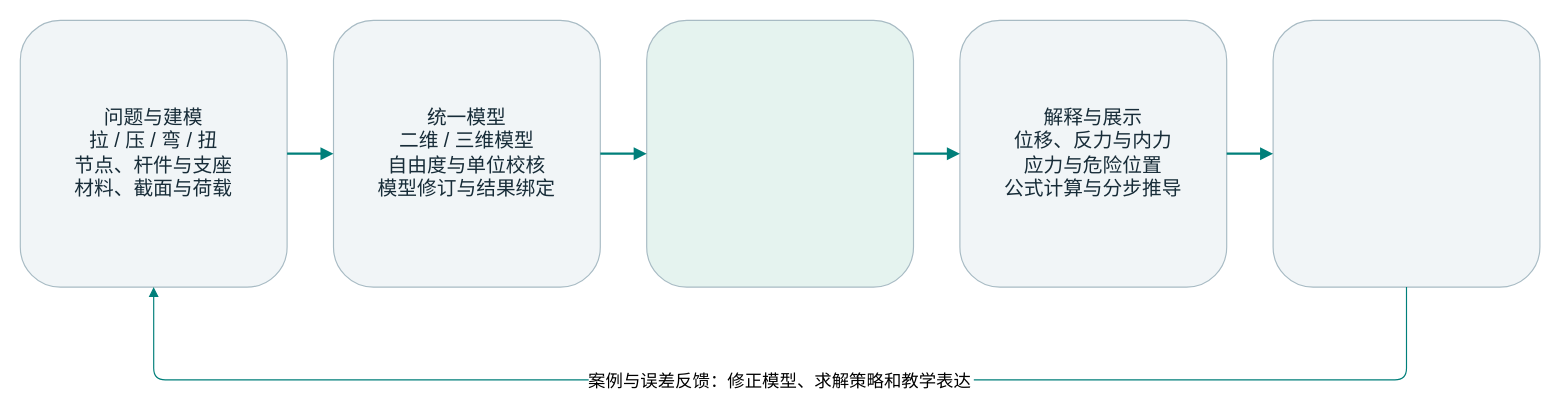
This 1560x411 diagram has some shape labels left out. The centre of each missing label's shape, as x and y in pixels:
本地求解 2D 梁与空间杆系 刚度组装与约束处理 CPU / Worker 求解: point 779,153
验证与应用 典型案例 / 解析解 数值校核与回归验证 离线桌面教学应用: point 1406,153
